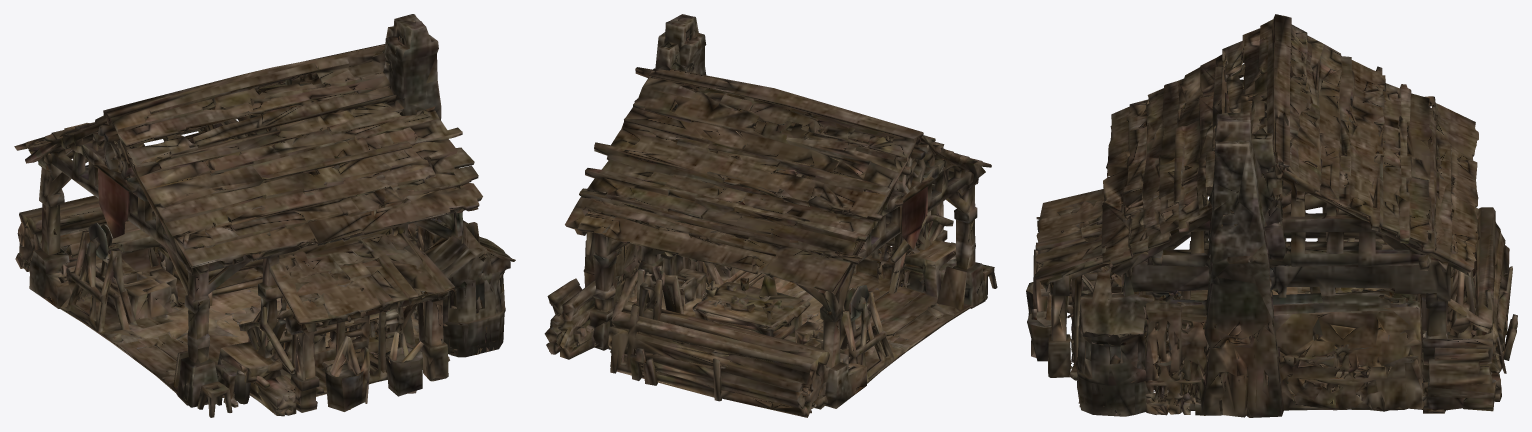
The picture shows the model from 3 angles, left to right: view 1: azimuth 30°, elevation 25°; view 2: azimuth 150°, elevation 25°; view 3: azimuth 270°, elevation 25°; orthographic projection. The views are drawn at different scales.
Parts seen in each view (by area): view 1: world; view 2: world; view 3: world.
Boxes of the visible parts, left/top/right/bottom form: world: left=14, top=14, right=515, bottom=417; world: left=544, top=14, right=997, bottom=417; world: left=1026, top=14, right=1517, bottom=417.
Size of the model in its own units: 0.782 by 0.6443 by 0.9963.
Materials: 1 (1 with a texture image).
